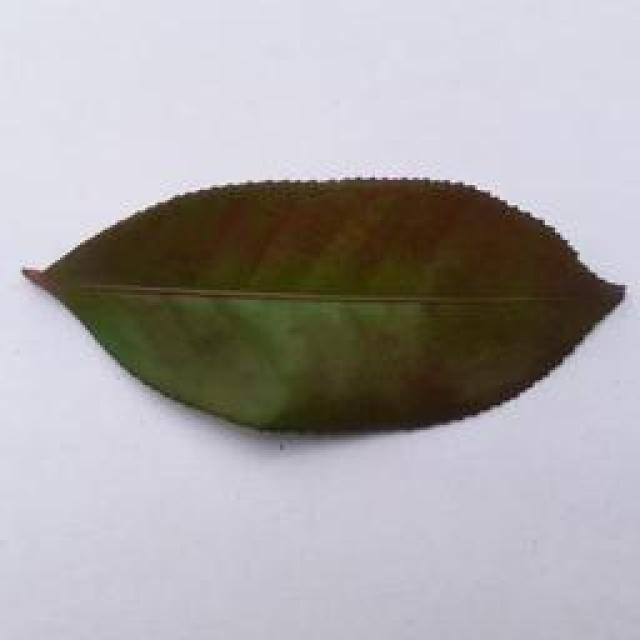Red Leaf Spot: (15, 158, 640, 448)
